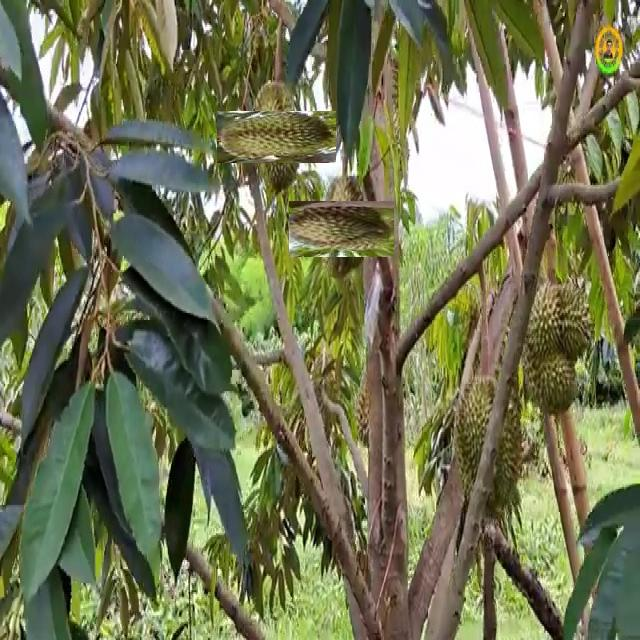durian: (452, 373, 524, 530), (514, 278, 594, 419), (233, 94, 320, 180), (301, 188, 383, 270)
